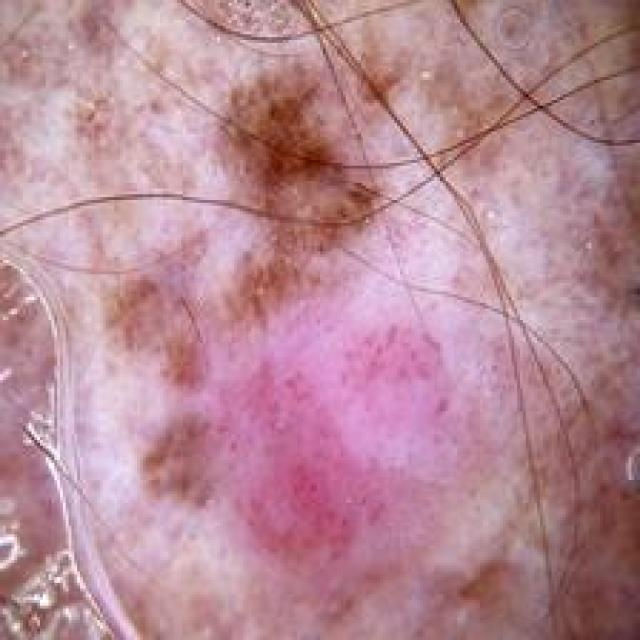Cancer: (210, 68, 400, 314)
